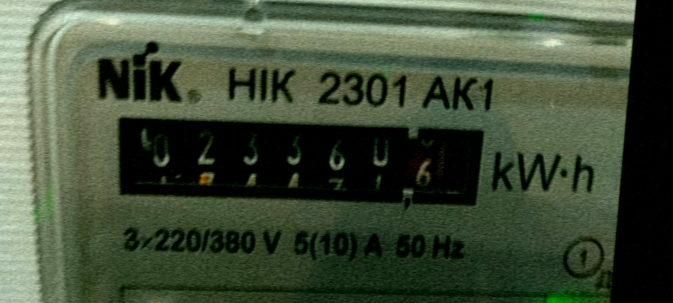0: (147, 127, 176, 171), (368, 131, 394, 170)
2: (192, 125, 221, 167)
3: (281, 128, 306, 168), (239, 127, 263, 168)
6: (322, 132, 352, 175), (413, 154, 437, 191)
screen: (90, 83, 500, 235)
